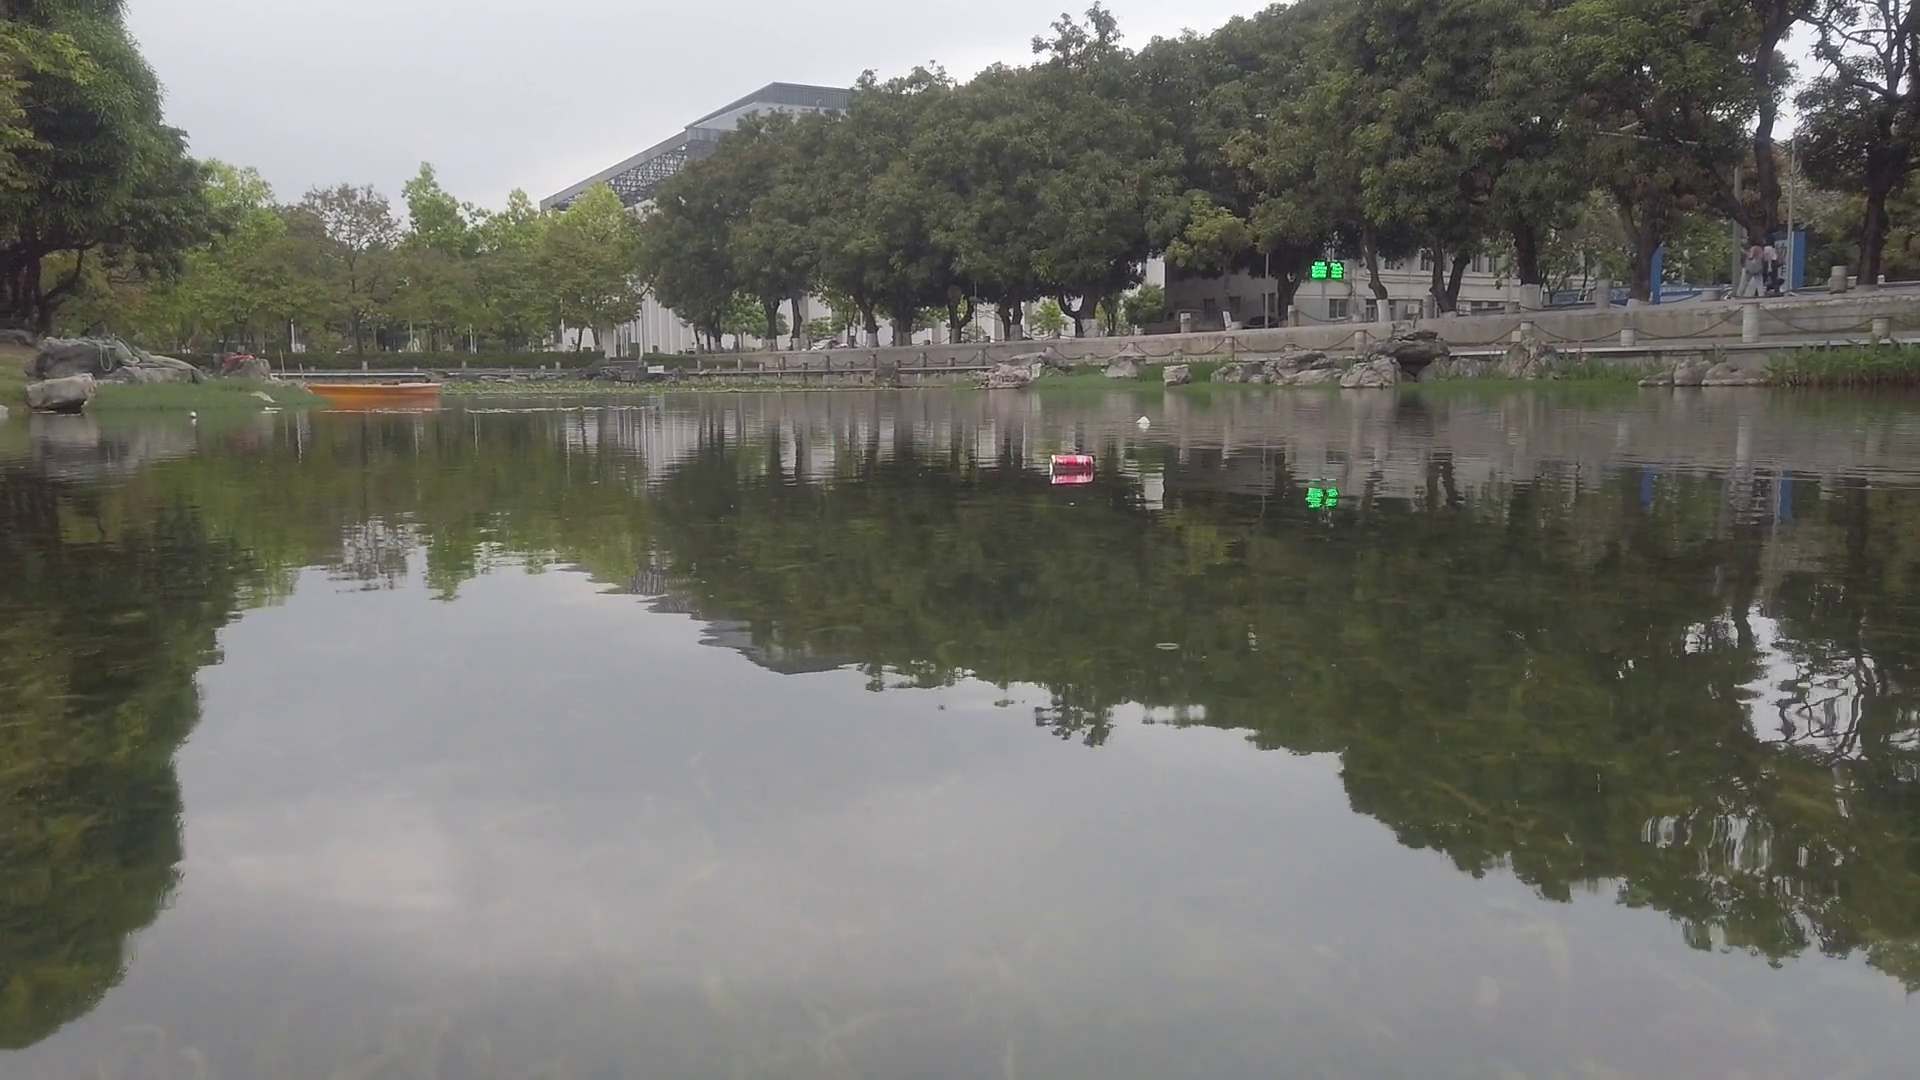bottle: (1050, 451, 1095, 476), (190, 411, 198, 419)
carton: (1137, 413, 1150, 430)
